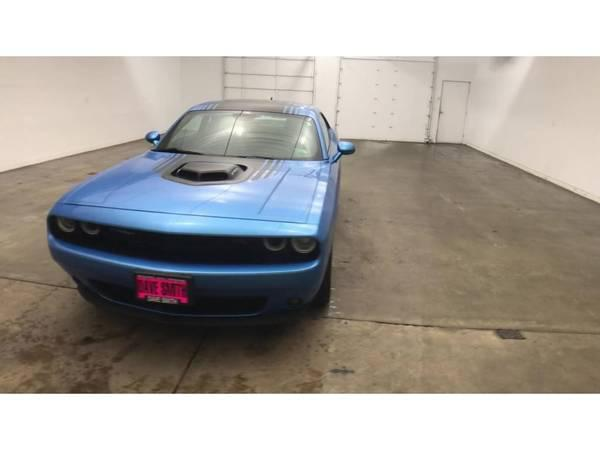Front_Bumper: (46, 233, 320, 320)
Front_Windshield: (157, 108, 327, 159)
Grille: (100, 221, 258, 268)
Hood: (49, 151, 327, 237)
Left_Headlight: (254, 234, 317, 269)
Left_Mirror: (332, 137, 356, 162)
Right_Headlight: (46, 214, 100, 250)
Right_Mirror: (145, 131, 161, 146)
